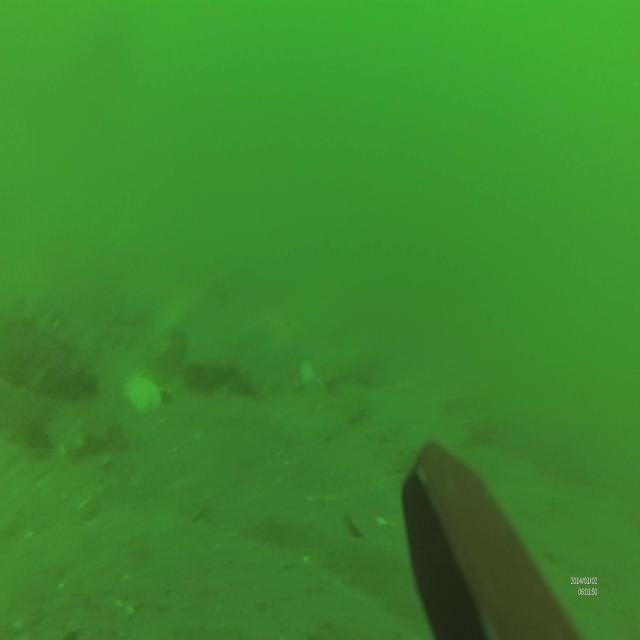holothurian: (2, 296, 98, 403)
scallop: (123, 374, 163, 416)
